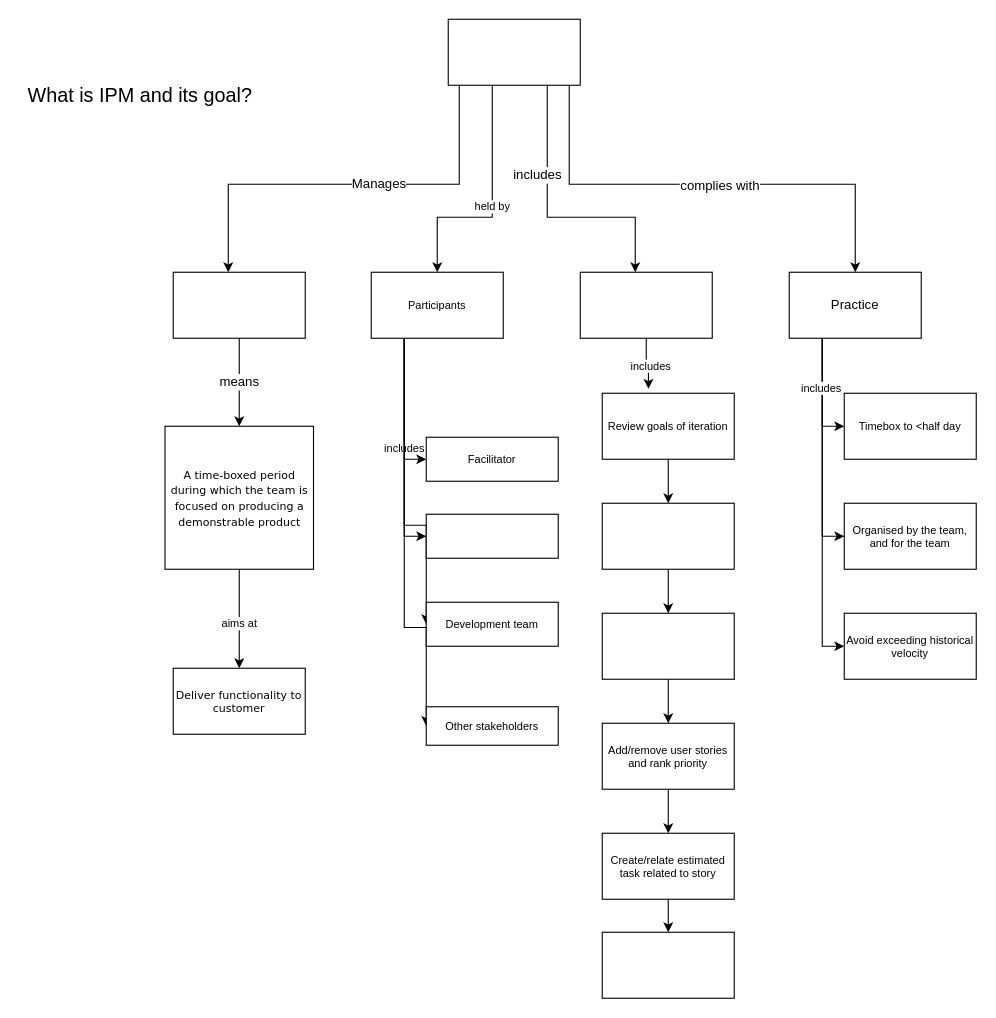
Image size: 996x1018. Some labels were removed from this diagram. The centre of each missing label's shape, as x and y in pixels:
IPM (Iteration Planning Meeting): point 513,51
Iteration: point 238,304
Procedures: point 645,304
Product owner: point 491,535
Result: Clear scope of work Compromised goal of achieving functionality: point 667,964
Review speed and time constraint: point 667,535
Review user story and progress: point 667,645
